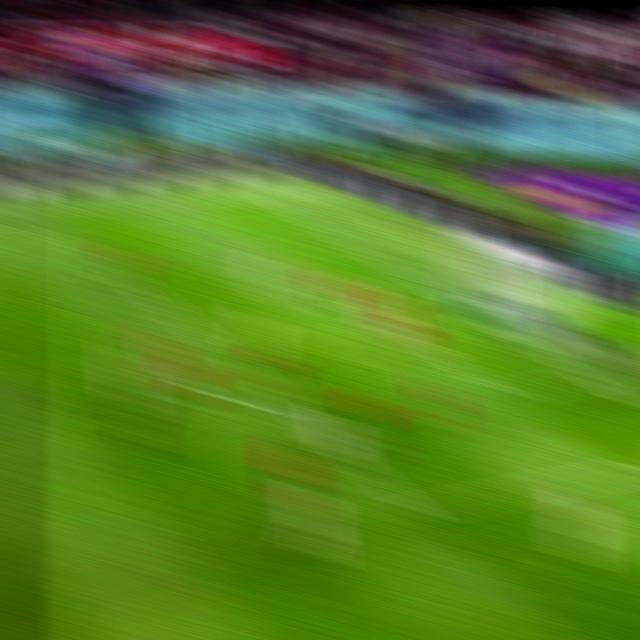bigarea_bottom_inner: (395, 491, 435, 527)
bigarea_top_outter: (330, 235, 361, 251)
bottom_arc_area_intersection: (279, 399, 314, 421)
corner: (251, 192, 282, 205)
smallarea_bottom_inner: (483, 376, 520, 406)
smallarea_bottom_outter: (573, 368, 605, 389)
smallarea_top_outter: (407, 275, 439, 294)
top_arc_area_intersection: (174, 315, 207, 336)
